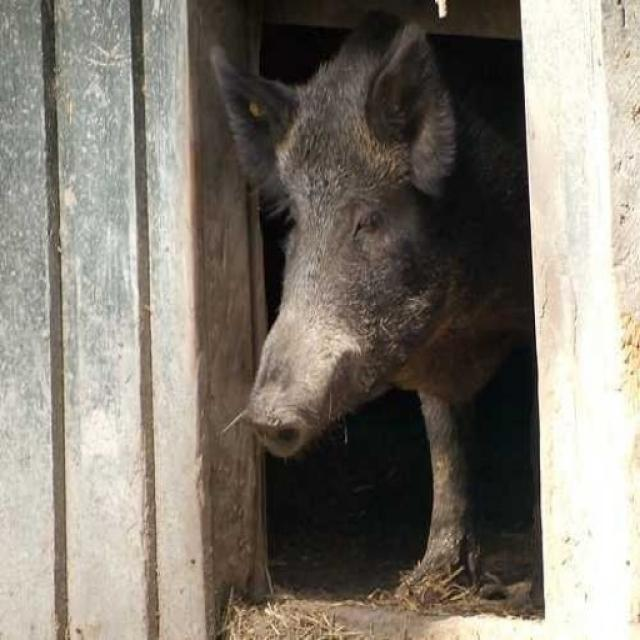pig: (224, 39, 569, 623)
